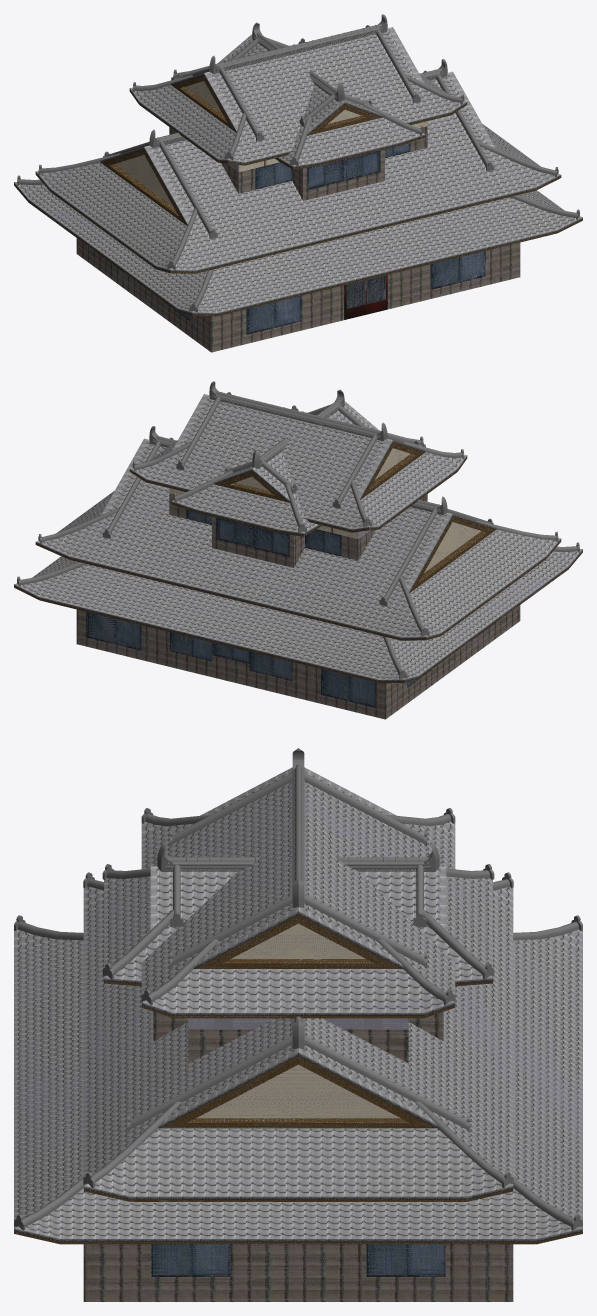
3 views of the same model, one above another, from view 1: azimuth 30°, elevation 25°; view 2: azimuth 150°, elevation 25°; view 3: azimuth 270°, elevation 25° (orthographic). The views are drawn at different scales.
Parts seen in each view (by area): view 1: SketchUp (×24), Jtile_cap_7 (×2), Jtile_cap_4 (×2), rooftiletop; view 2: SketchUp (×22), Jtile_cap_7 (×2), Jtile_cap_4 (×2), rooftiletop; view 3: SketchUp (×21), Jtile_cap_4 (×4), Jtile_cap_7 (×2), rooftiletop_1.
Part boxes in pixels (x1,y1,x2,y2): SketchUp (×24): [14, 27, 582, 352]; Jtile_cap_7 (×2): [159, 74, 488, 234]; Jtile_cap_4 (×2): [219, 29, 415, 136]; rooftiletop: [216, 27, 384, 71]; SketchUp (×22): [14, 395, 582, 719]; Jtile_cap_7 (×2): [108, 441, 437, 601]; Jtile_cap_4 (×2): [181, 396, 377, 503]; rooftiletop: [212, 394, 380, 438]; SketchUp (×21): [14, 767, 582, 1301]; Jtile_cap_4 (×4): [172, 773, 424, 965]; Jtile_cap_7 (×2): [130, 1036, 466, 1129]; rooftiletop_1: [166, 862, 430, 868].
Bounding box in the file's own units: 745 × 588 × 420.
